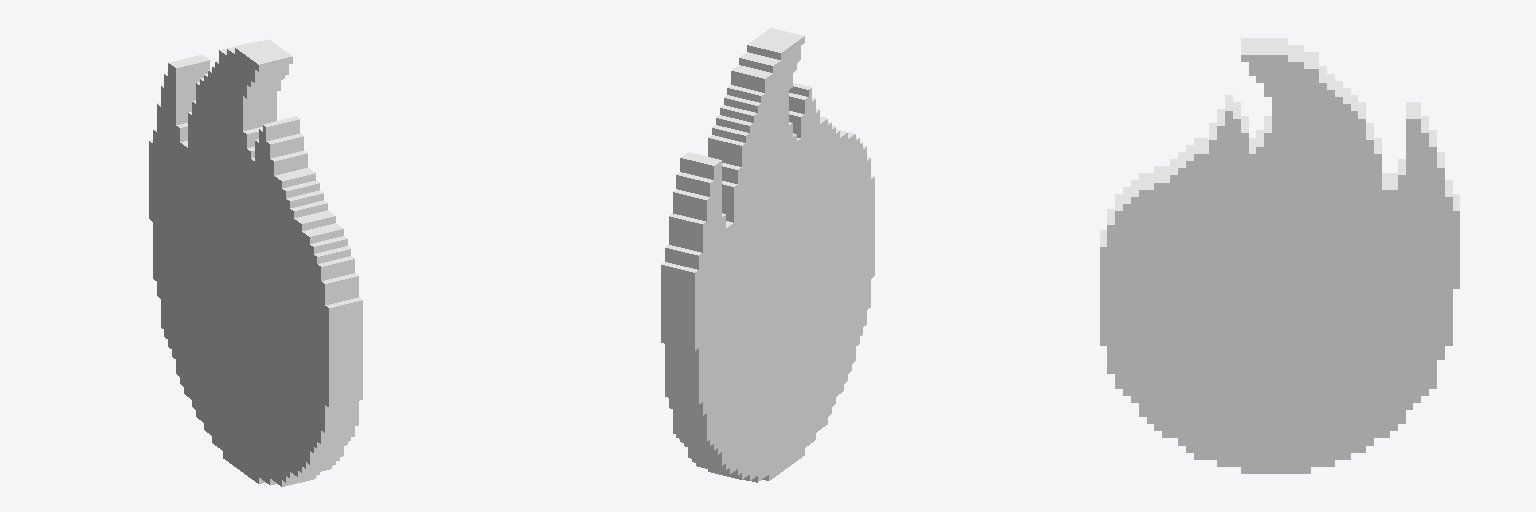
File: normal_encounter.obj
3 renders of one model, left to right at view 1: azimuth 30°, elevation 25°; view 2: azimuth 150°, elevation 25°; view 3: azimuth 270°, elevation 25°, orthographic.
Visible parts, largest first — view 1: object 1; view 2: object 1; view 3: object 1.
Boxes of the visible parts, x1,y1,x2,y2 form: object 1: [149, 39, 362, 486]; object 1: [661, 28, 874, 482]; object 1: [1100, 38, 1459, 473].
Bounding box in the file's own units: 0.5 × 5.9 × 4.6.